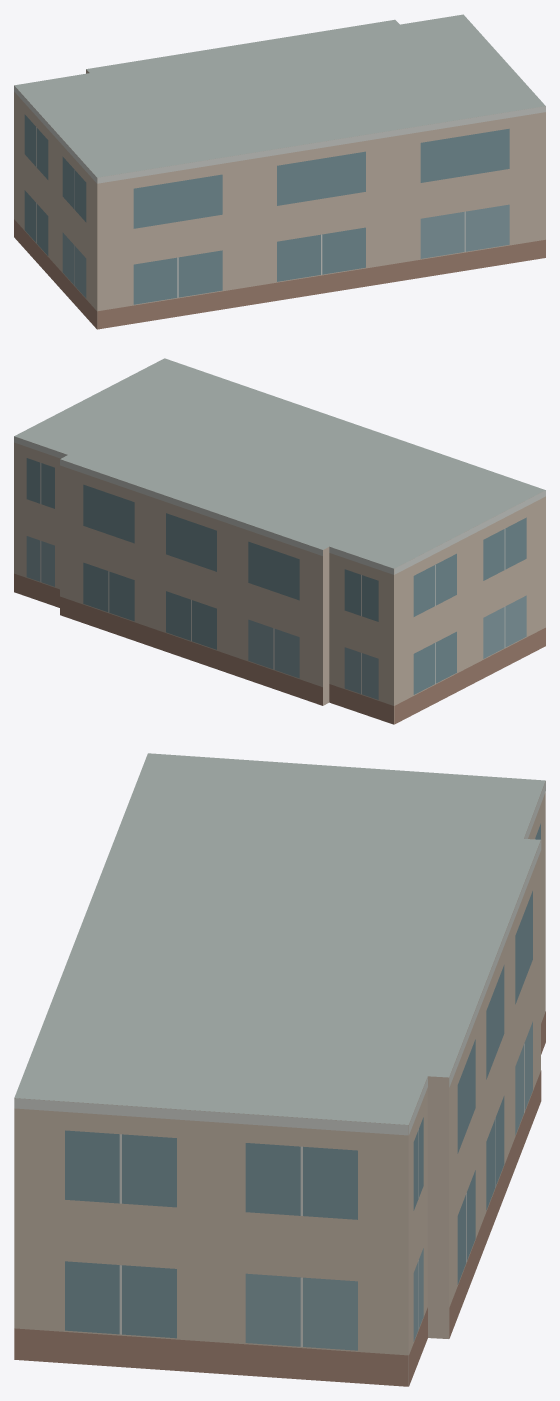
Rendered from survey-upis-32621629.glb.
The picture shows the model from 3 angles, top to bottom: view 1: azimuth 30°, elevation 25°; view 2: azimuth 150°, elevation 25°; view 3: azimuth 270°, elevation 25°; orthographic projection. The views are drawn at different scales.
Parts seen in each view (by area): view 1: survey-upis-32621629.tmp; view 2: survey-upis-32621629.tmp; view 3: survey-upis-32621629.tmp.
Boxes of the visible parts, x1,y1,x2,y2 form: survey-upis-32621629.tmp: (14, 14, 545, 329); survey-upis-32621629.tmp: (14, 358, 545, 724); survey-upis-32621629.tmp: (14, 753, 545, 1386).
Size of the model in its own units: 18.6 by 6.1 by 11.24.
